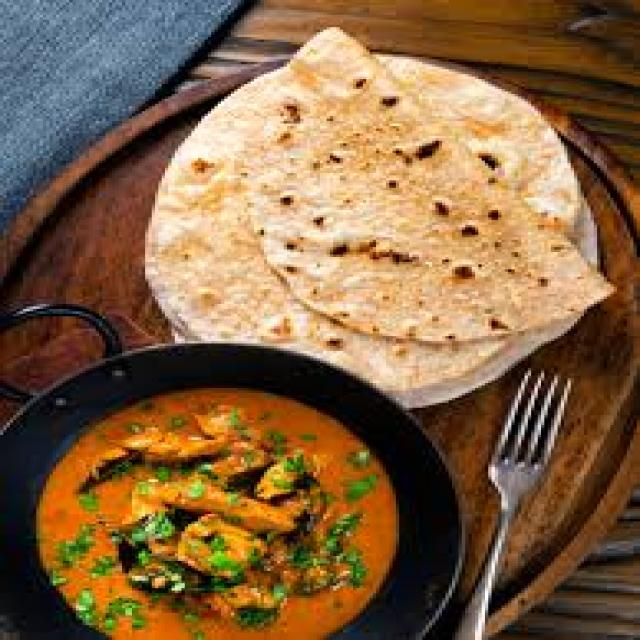chapathi: (125, 36, 640, 351)
